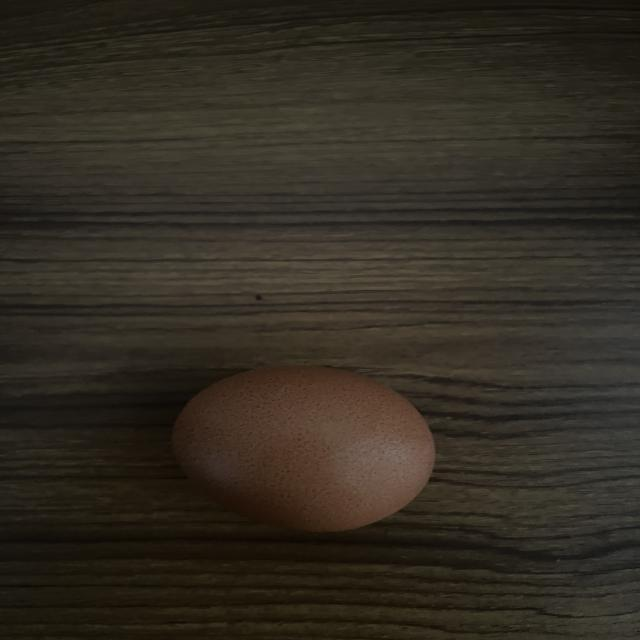egg: (158, 356, 446, 542)
